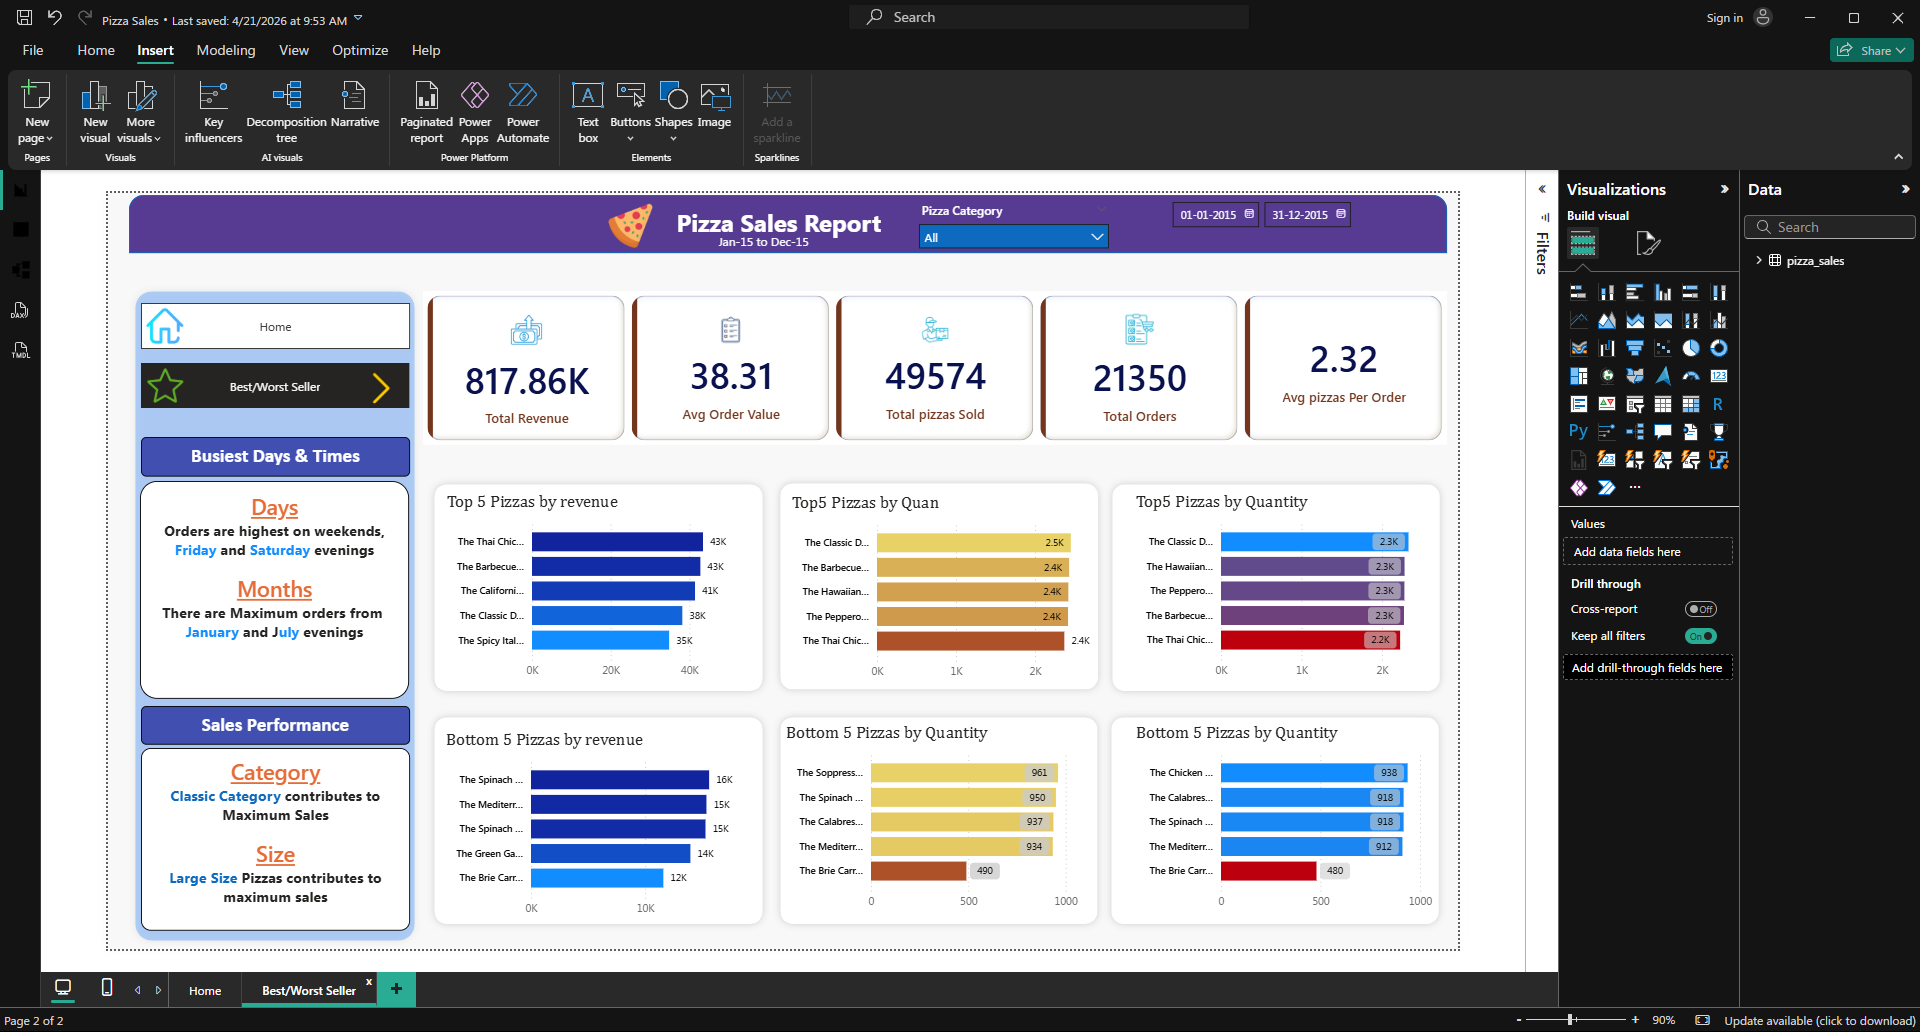

The dashboard page shown, as its layout file describes it:
{"tool":"powerbi","page":{"name":"Best/Worst Seller","canvas":[1500,839],"ordinal":1},"visuals":[{"type":"cardVisual","fields":{"Data":["pizza_sales.Total Revenue","pizza_sales.Avg Order Value","pizza_sales.Total pizzas Sold","pizza_sales.Total Orders","pizza_sales.Avg pizzas Per Order"]},"box":[350,87.8,1137.8,170.7],"z":0},{"type":"shape","box":[23.2,2.4,1464.6,64.6],"z":1000},{"type":"textbox","box":[626.8,8.5,246.3,53.7],"z":2000},{"type":"textbox","box":[673.4,40.3,122.9,31],"z":3000},{"type":"image","box":[550.5,0,60.9,73.3],"z":4000},{"type":"shape","box":[354.2,574.2,381.1,245.8],"z":5000},{"type":"shape","box":[738.4,574.2,368.7,245.8],"z":6000},{"type":"shape","box":[1107.1,574.2,380.1,245.8],"z":7000},{"type":"shape","box":[22.2,101.1,326.7,737.8],"z":8000},{"type":"textbox","box":[37.1,270.8,298.9,43.8],"z":9000},{"type":"textbox","box":[36,320.2,298.9,241.6],"z":10000},{"type":"textbox","box":[37.1,569.7,298.9,42.7],"z":11000},{"type":"textbox","box":[36.7,616.7,298.9,203.3],"z":12000},{"type":"slicer","fields":{"Values":["pizza_sales.pizza_category"]},"box":[891.1,5.6,231.1,61.1],"z":13000},{"type":"slicer","fields":{"Values":["pizza_sales.order_date"]},"box":[1170,0,227.6,66.5],"z":14000},{"type":"shape","box":[354.5,315.8,381.1,245.8],"z":15000},{"type":"shape","box":[738.7,314.7,369.3,245.3],"z":16000},{"type":"shape","box":[1107.4,315.8,380.1,245.8],"z":17000},{"type":"clusteredBarChart","title":"Top 5 Pizzas by revenue ","fields":{"Category":["pizza_sales.pizza_name"],"Y":["pizza_sales.Total Revenue"]},"box":[370.8,330.8,349.2,216.9],"z":18000},{"type":"clusteredBarChart","title":"Bottom 5 Pizzas by revenue","fields":{"Category":["pizza_sales.pizza_name"],"Y":["pizza_sales.Total Revenue"]},"box":[369.7,595.5,349.4,216.9],"z":19000},{"type":"clusteredBarChart","title":"Top5 Pizzas by Quan","fields":{"Category":["pizza_sales.pizza_name"],"Y":["pizza_sales.Total pizzas Sold"]},"box":[753.9,332.6,349.4,216.9],"z":20000},{"type":"clusteredBarChart","title":"Bottom 5 Pizzas by Quantity","fields":{"Category":["pizza_sales.pizza_name"],"Y":["pizza_sales.Total pizzas Sold"]},"box":[748.3,587.6,349.4,216.9],"z":21000},{"type":"clusteredBarChart","title":"Top5 Pizzas by Quantity","fields":{"Category":["pizza_sales.pizza_name"],"Y":["pizza_sales.Total Orders"]},"box":[1137.1,331.5,349.4,216.9],"z":22000},{"type":"clusteredBarChart","title":"Bottom 5 Pizzas by Quantity","fields":{"Category":["pizza_sales.pizza_name"],"Y":["pizza_sales.Total Orders"]},"box":[1137.1,587.6,349.4,216.9],"z":23000},{"type":"pageNavigator","box":[92.1,122.5,185.4,50.6],"z":24000},{"type":"pageNavigator","box":[92.1,188.8,185.4,50.6],"z":25000}]}

Visuals, with their boxes on the page's 1500x839 design canvas (x1, y1, x2, y2). These are canvas units, not pixel positions in the 1920x1032 screenshot, which may show the page scaled, cropped or inside an application window:
cardVisual - pizza_sales.Total Revenue x pizza_sales.Avg Order Value: (350, 88, 1488, 258)
shape: (23, 2, 1488, 67)
textbox: (627, 8, 873, 62)
textbox: (673, 40, 796, 71)
image: (550, 0, 611, 73)
shape: (354, 574, 735, 820)
shape: (738, 574, 1107, 820)
shape: (1107, 574, 1487, 820)
shape: (22, 101, 349, 839)
textbox: (37, 271, 336, 315)
textbox: (36, 320, 335, 562)
textbox: (37, 570, 336, 612)
textbox: (37, 617, 336, 820)
slicer - pizza_sales.pizza_category: (891, 6, 1122, 67)
slicer - pizza_sales.order_date: (1170, 0, 1398, 66)
shape: (354, 316, 736, 562)
shape: (739, 315, 1108, 560)
shape: (1107, 316, 1488, 562)
"Top 5 Pizzas by revenue " clusteredBarChart: (371, 331, 720, 548)
"Bottom 5 Pizzas by revenue" clusteredBarChart: (370, 596, 719, 812)
"Top5 Pizzas by Quan" clusteredBarChart: (754, 333, 1103, 550)
"Bottom 5 Pizzas by Quantity" clusteredBarChart: (748, 588, 1098, 804)
"Top5 Pizzas by Quantity" clusteredBarChart: (1137, 332, 1486, 548)
"Bottom 5 Pizzas by Quantity" clusteredBarChart: (1137, 588, 1486, 804)
pageNavigator: (92, 122, 278, 173)
pageNavigator: (92, 189, 278, 239)
